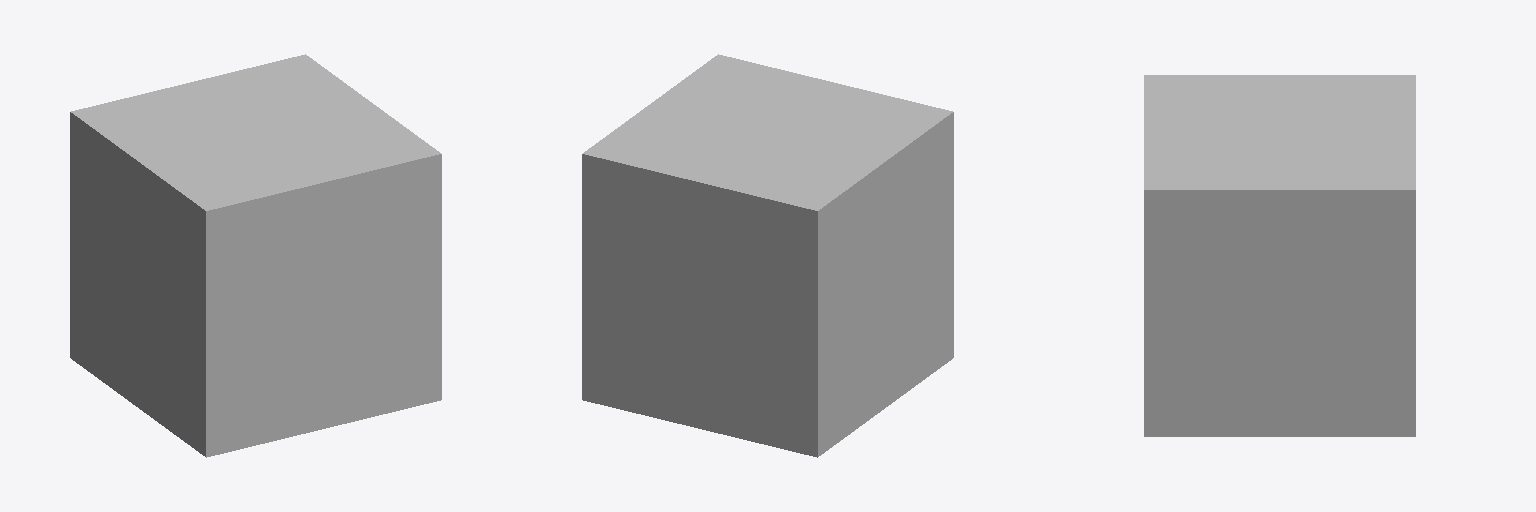
3 renders of one model, left to right at view 1: azimuth 30°, elevation 25°; view 2: azimuth 150°, elevation 25°; view 3: azimuth 270°, elevation 25°, orthographic.
Visible parts, largest first — view 1: Cube.001_Cube.018; view 2: Cube.001_Cube.018; view 3: Cube.001_Cube.018.
Part boxes in pixels (left/top/right/bottom): Cube.001_Cube.018: left=70, top=54, right=441, bottom=457; Cube.001_Cube.018: left=582, top=54, right=953, bottom=457; Cube.001_Cube.018: left=1144, top=75, right=1415, bottom=436.
Size of the model in its own units: 2 by 2 by 2.
Materials: 1 (1 with a texture image).